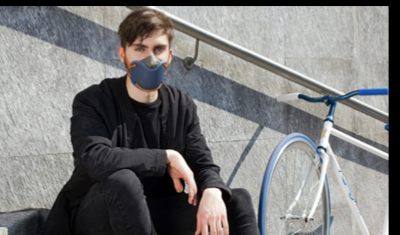with_mask: (125, 41, 169, 91)
